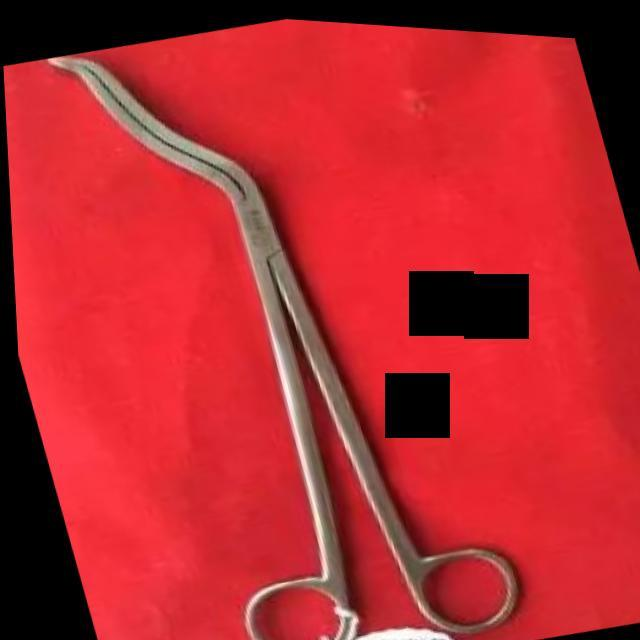Cheatle Forceps: (18, 1, 533, 640)
